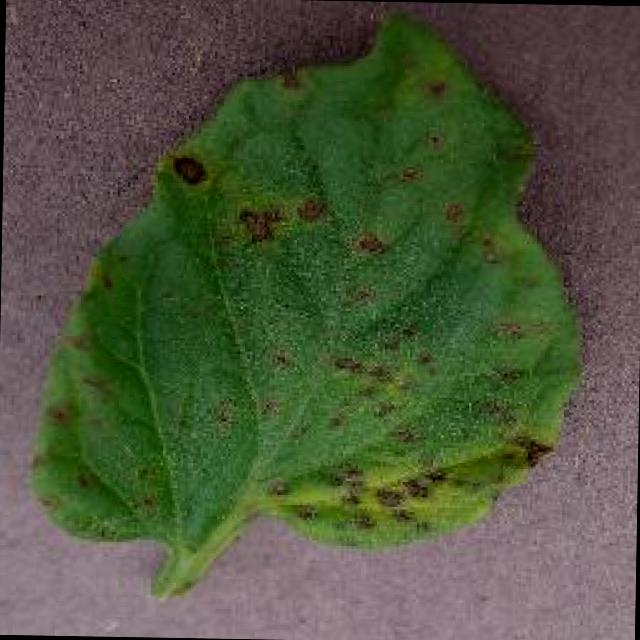leaf_spot: (32, 19, 577, 597)
